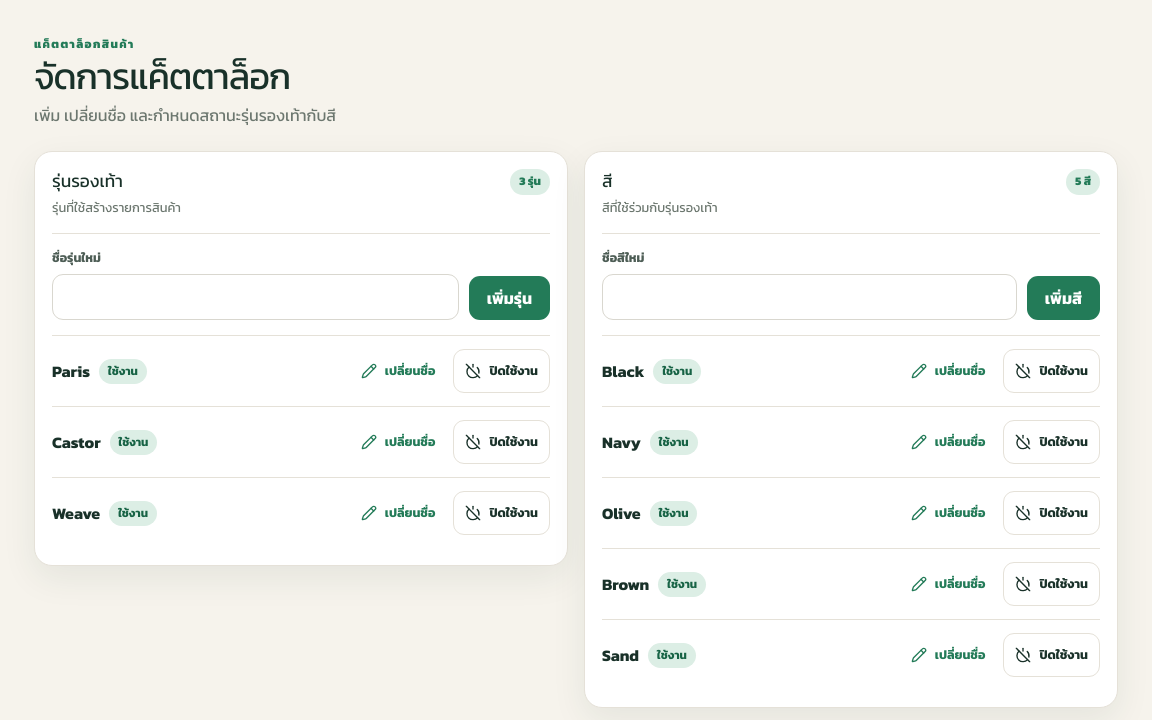
CatalogPage › renames a model with trimming and shows case-insensitive repository validation in Thai
This screenshot has width=1152, height=720.
Check: the text "Paris" is shown, box [52,359,90,383]
Click the button with aria-label "เปลี่ยนชื่อรุ่น Castor" at (398, 442), box [349,420,447,464]
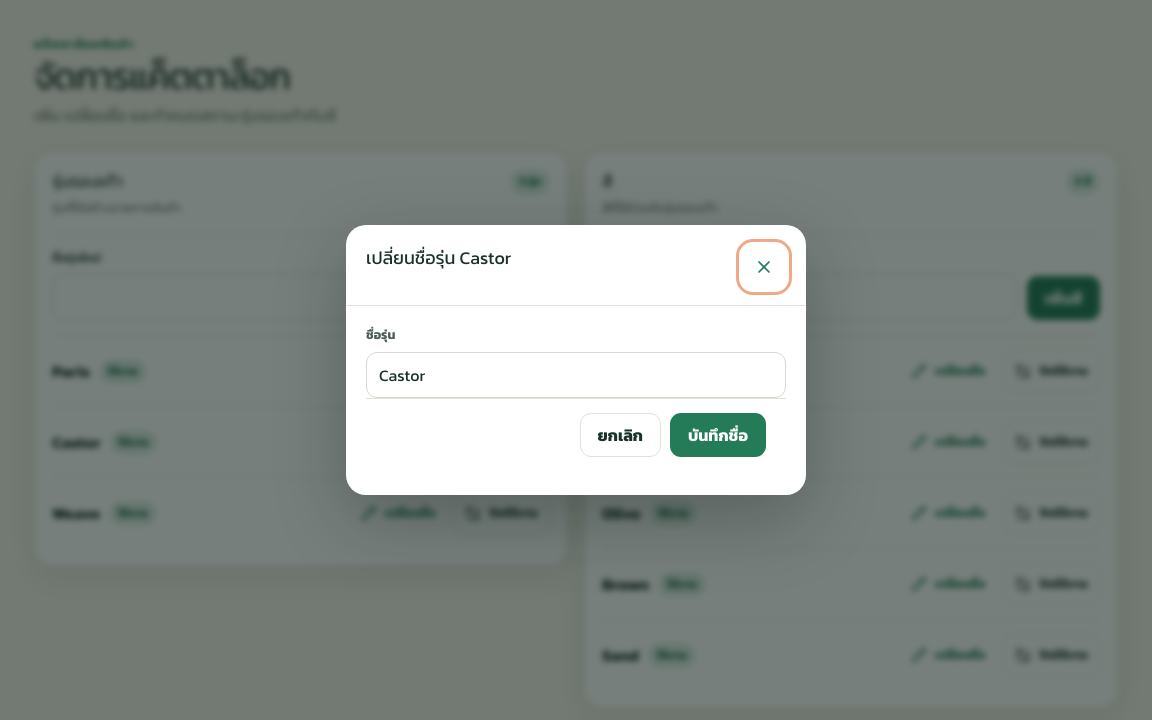
Replace the text in the field labelled "ชื่อรุ่น" with "  Castor Classic  " at (576, 375), box [367,353,785,397]
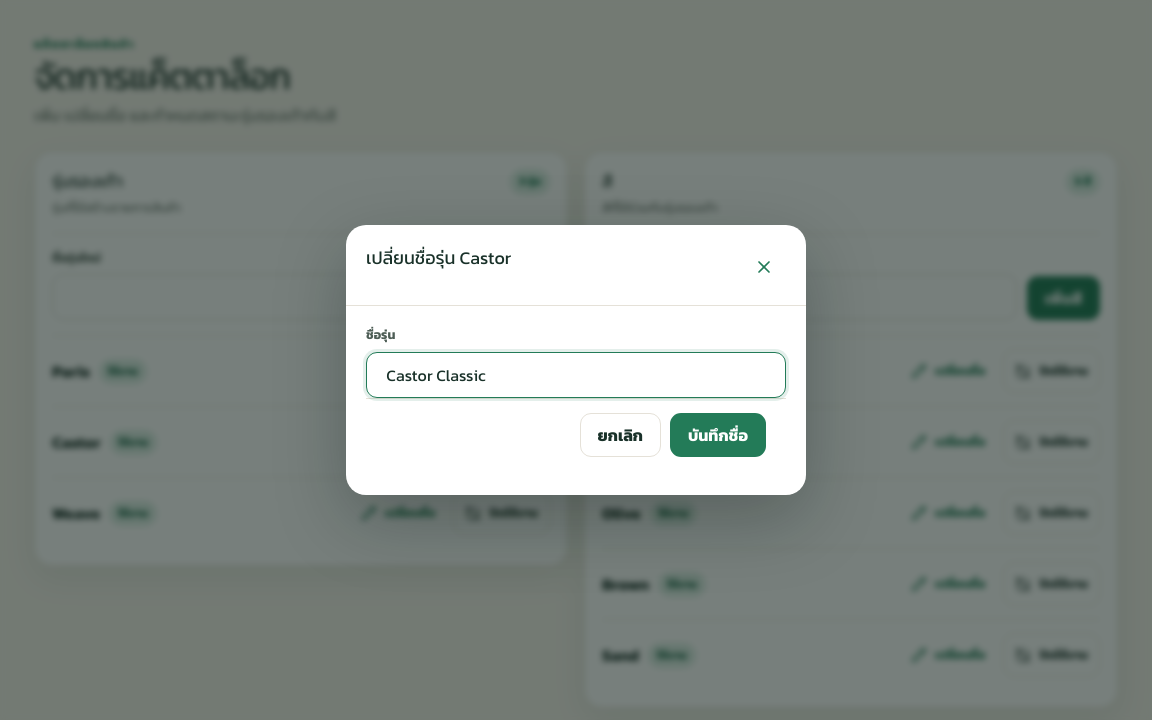
Click the button "บันทึกชื่อ" at (718, 435), box [670,413,766,457]
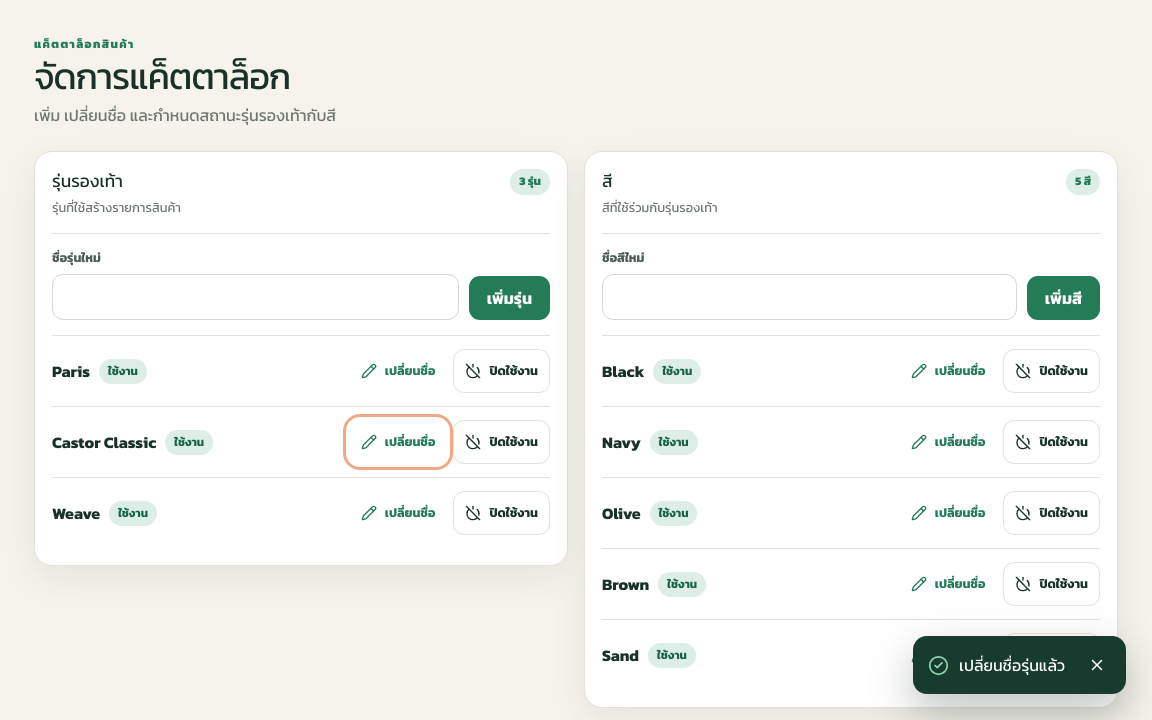
Check: the text "Castor Classic" is shown, box [52,430,156,454]
Type "  PARIS  " into the field labelled "ชื่อรุ่นใหม่" at (255, 297), box [53,275,458,319]
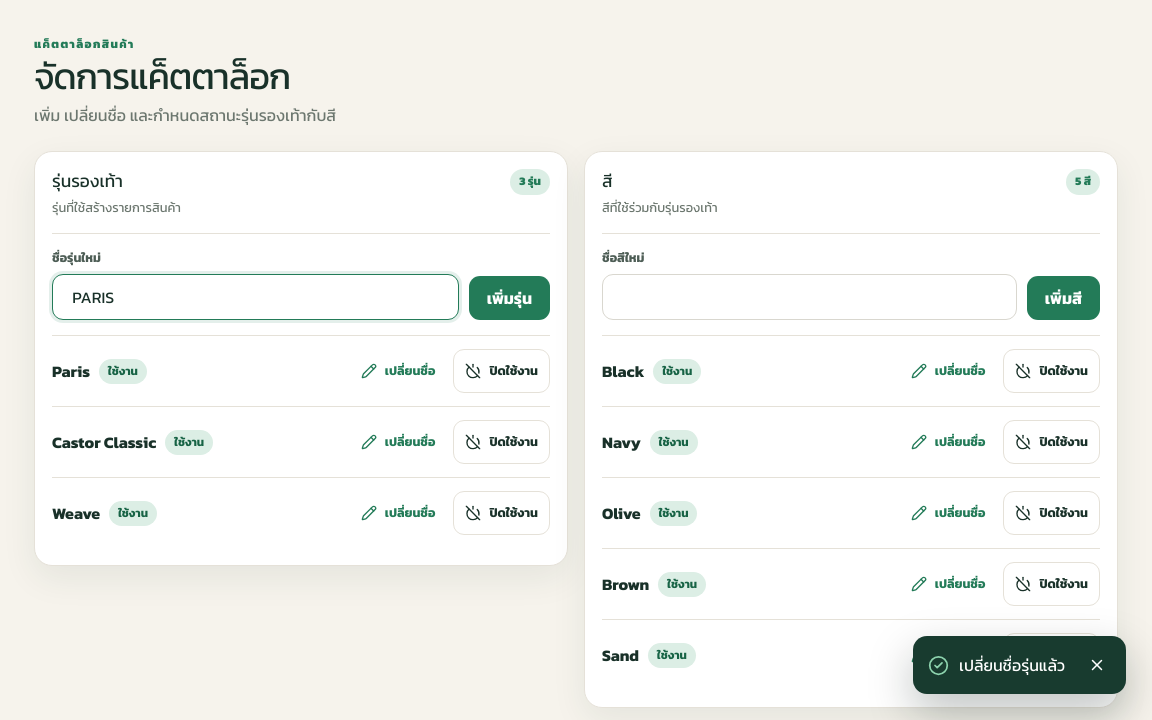
Click the button "เพิ่มรุ่น" at (509, 298), box [469,276,550,320]
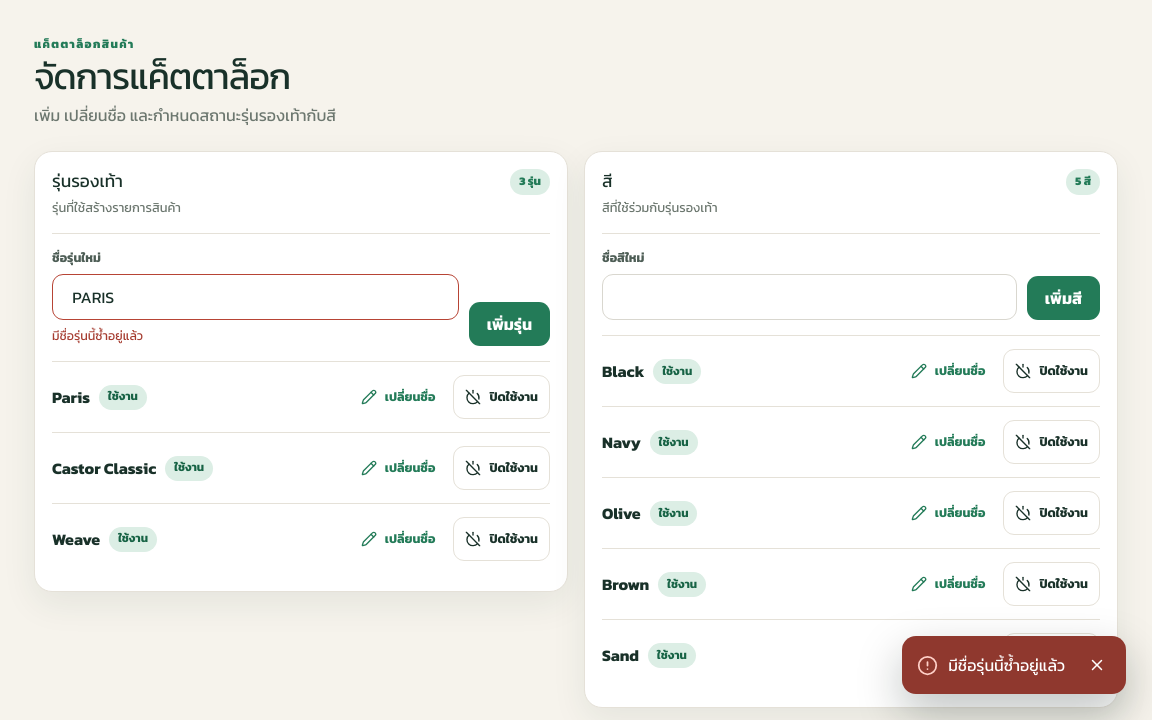
Check: the message named "เกิดข้อผิดพลาด" reads "มีชื่อรุ่นนี้ซ้ำอยู่แล้ว", box [948,653,1065,677]
